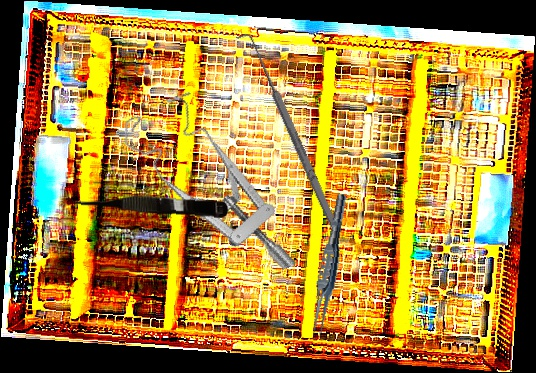Hook Surgical: (235, 29, 341, 232)
Micro Scissor: (65, 189, 230, 219)
Speculum: (116, 76, 298, 306)
Tissue Forceps: (307, 192, 351, 340)
